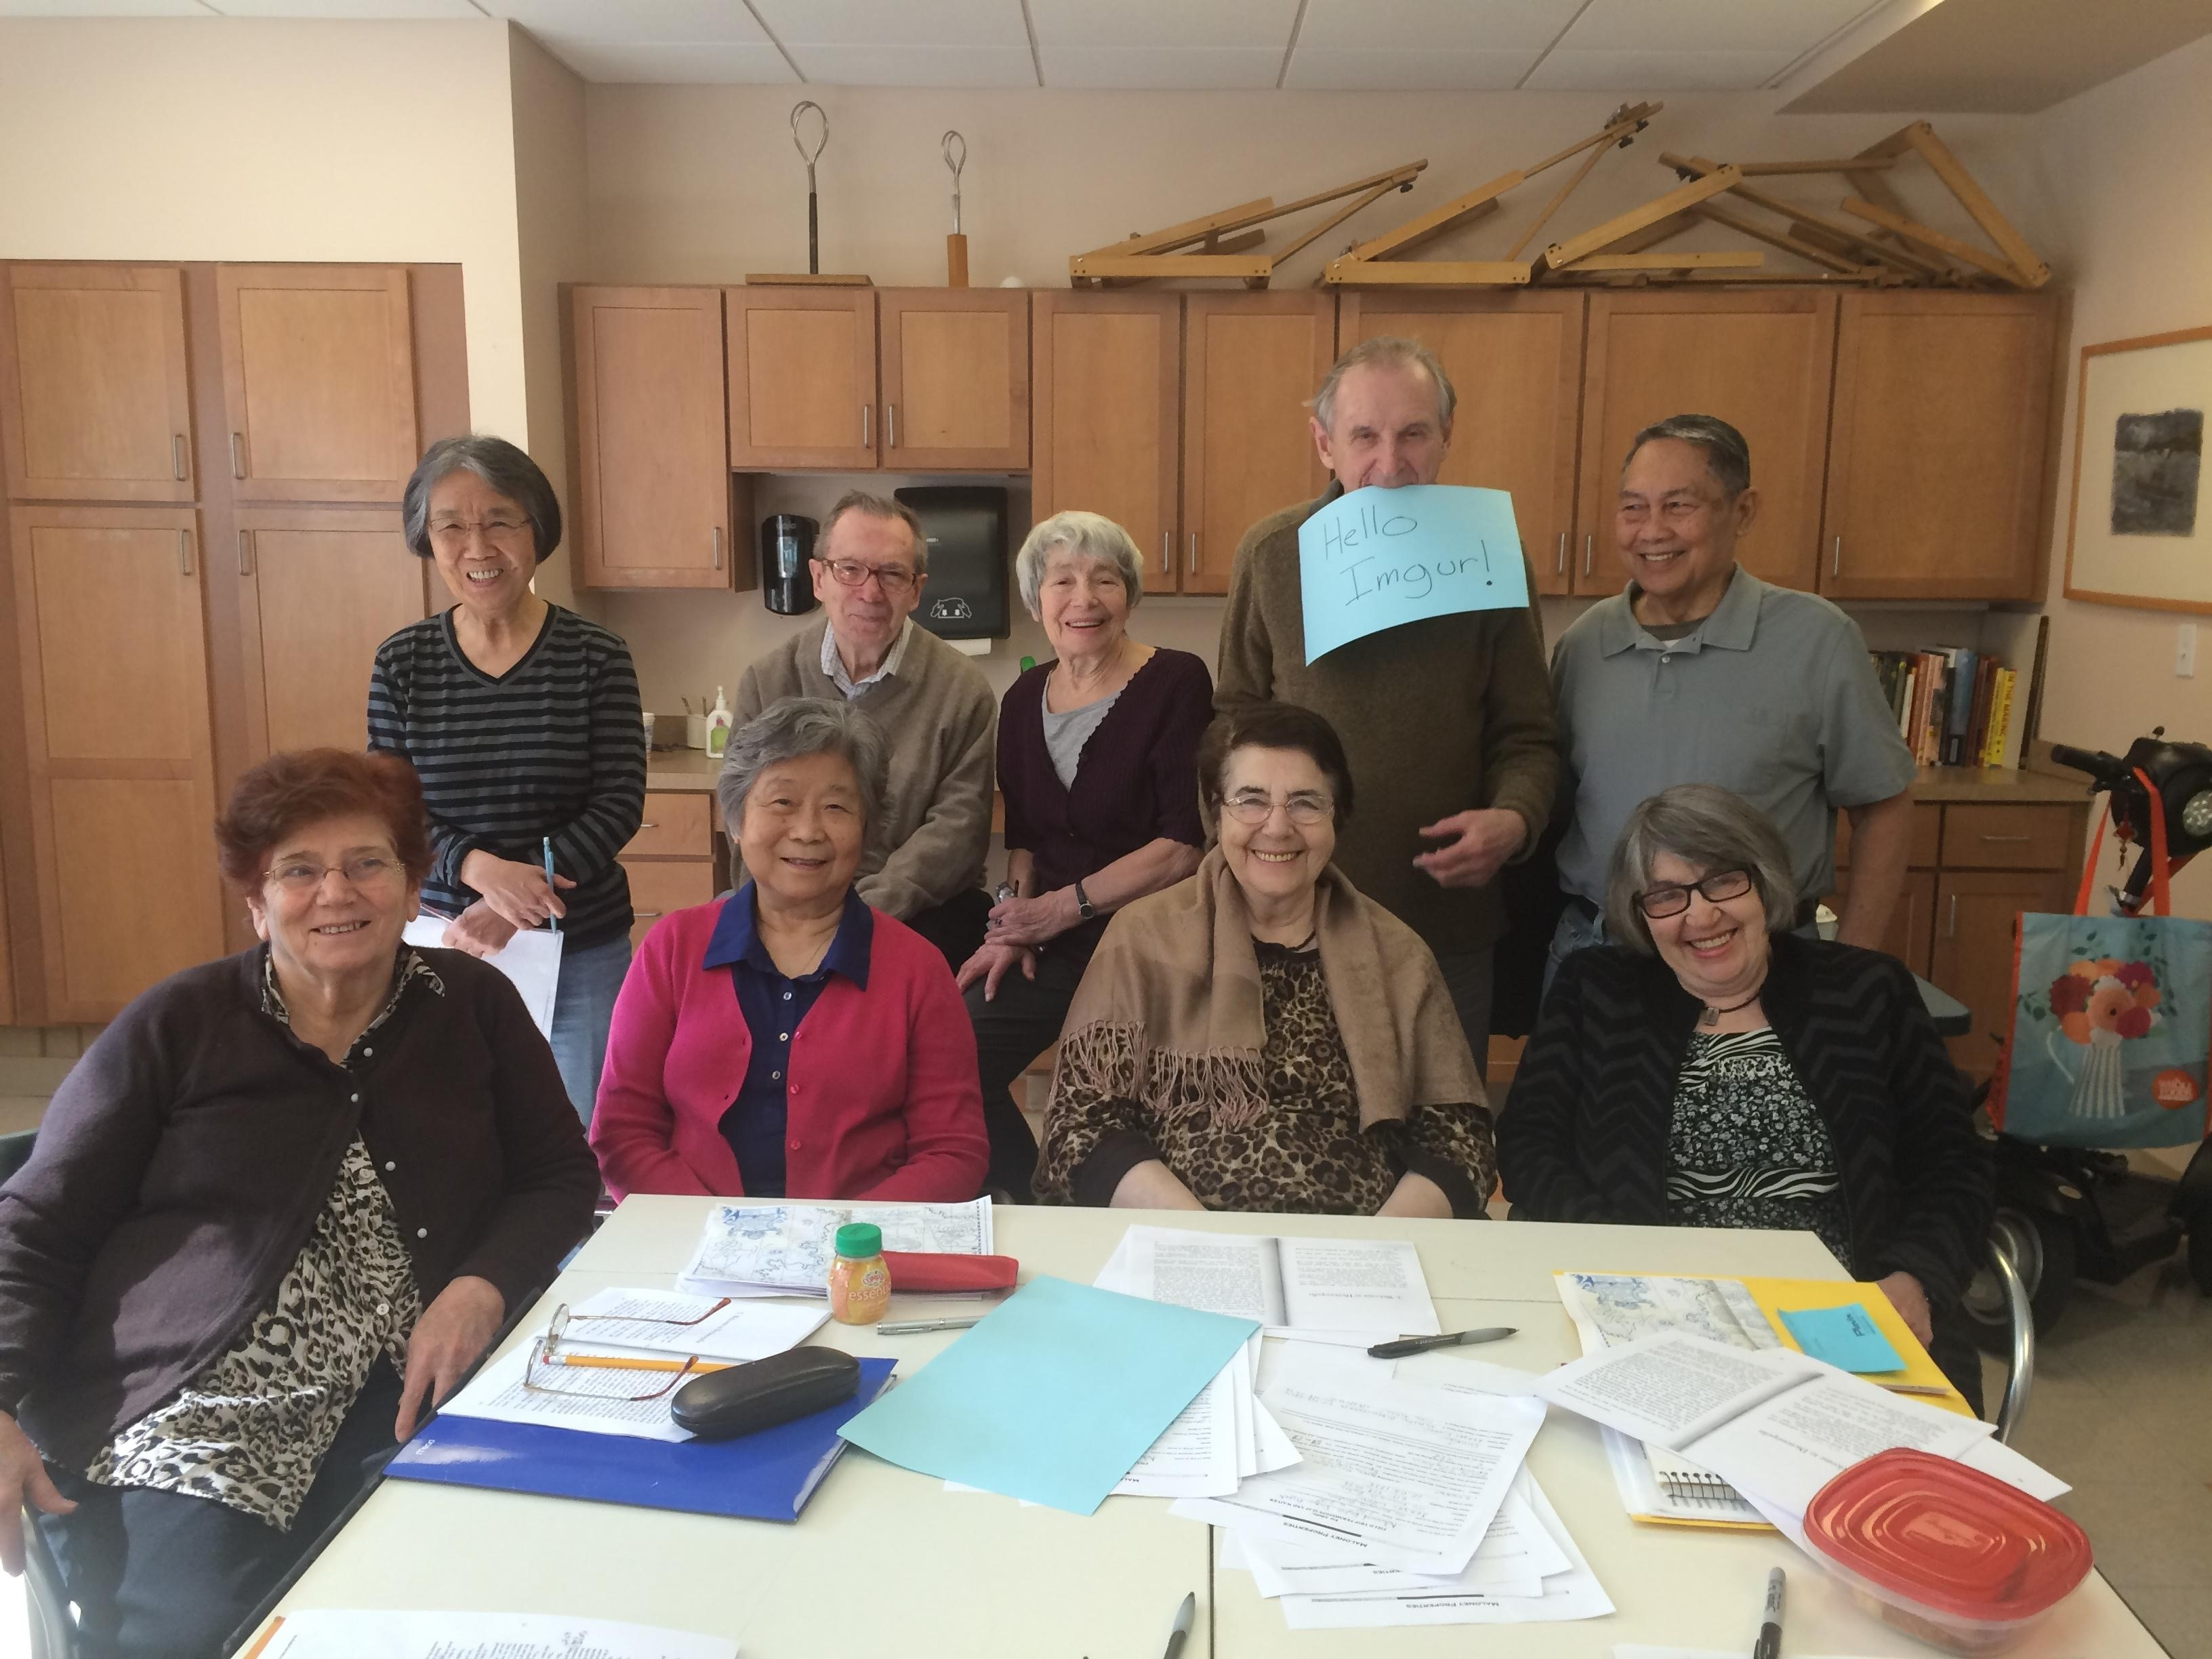face_no_mask: (237, 783, 426, 983), (1618, 806, 1788, 1005), (722, 715, 879, 912), (1206, 698, 1350, 910), (1607, 428, 1745, 607), (415, 457, 541, 620), (808, 495, 926, 663), (1019, 522, 1139, 663)
